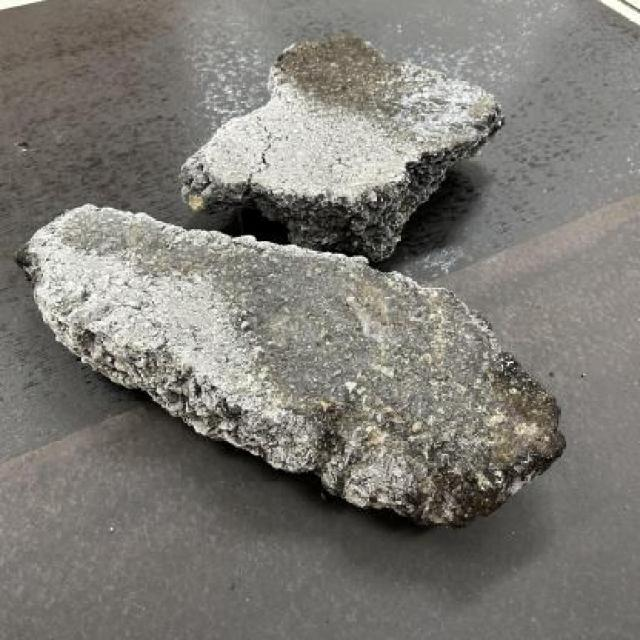Road Debris: (236, 242, 555, 448), (276, 32, 498, 150), (56, 205, 241, 286)
